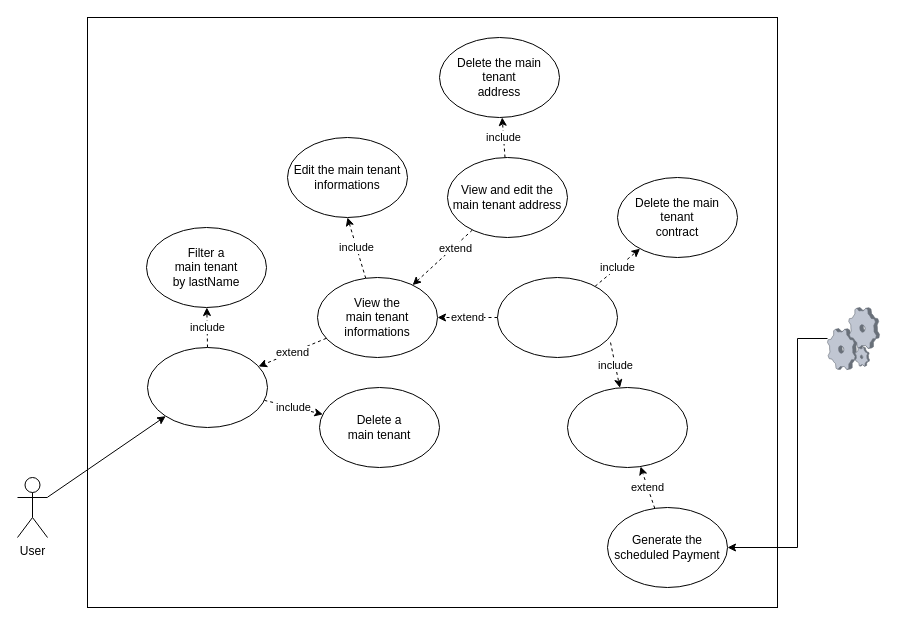
This 916x625 diagram has some shape labels left out. Each missing label, with the box of its shape:
Add the main tenant contract: (566, 386, 688, 468)
External Process: (827, 307, 879, 369)
View and edit the main tenant contracts: (496, 276, 618, 358)
View the main tenant list: (146, 346, 268, 428)
